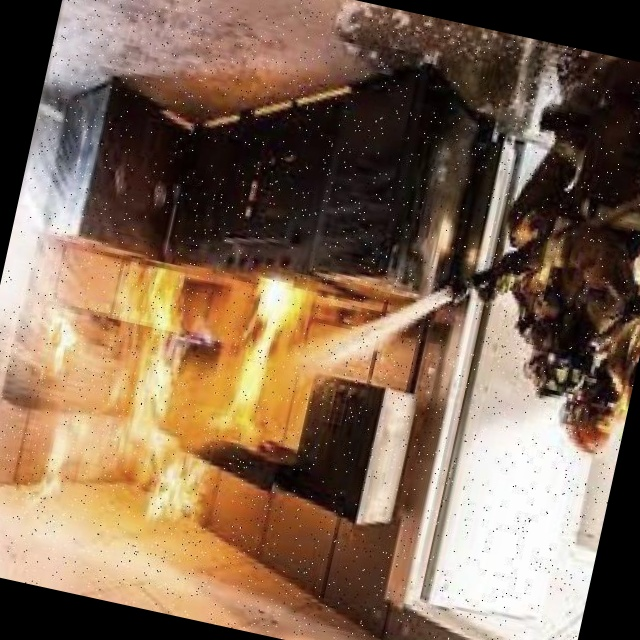fire: (72, 246, 304, 547)
